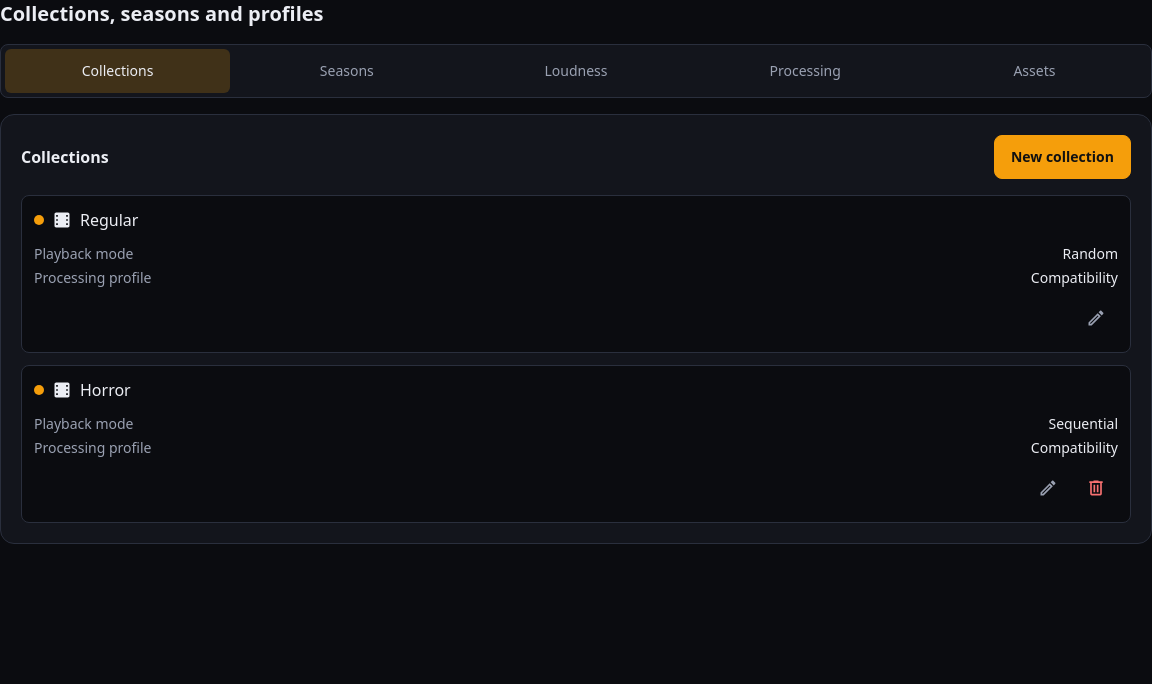
Test: lists collections with their mode and processing profile, and opens the form to create or edit
The image size is (1152, 684).
Expected: the number of list items is 2, [21,195,1131,353]; [21,365,1131,523]
Expected: the list item that starts with "Horror" is shown, [80,379,131,401]
Click the button named "Edit Horror" at {"x": 1048, "y": 488}, box [1026,466,1070,510]
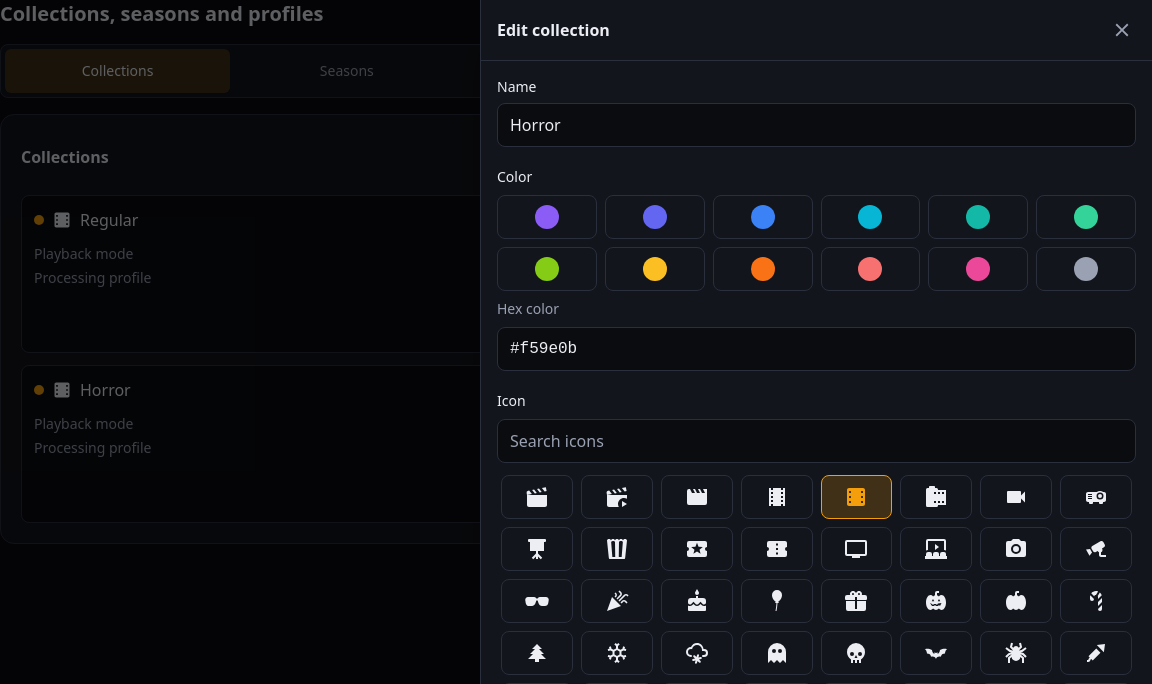
Expected: the field with test id "name" holds "Horror", [497,103,1136,147]
Expected: the dialog shows "Edit collection", [497,19,610,41]
